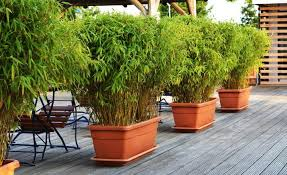bamboo: (83, 19, 164, 120), (1, 1, 78, 85), (169, 18, 223, 98), (222, 27, 265, 84)
